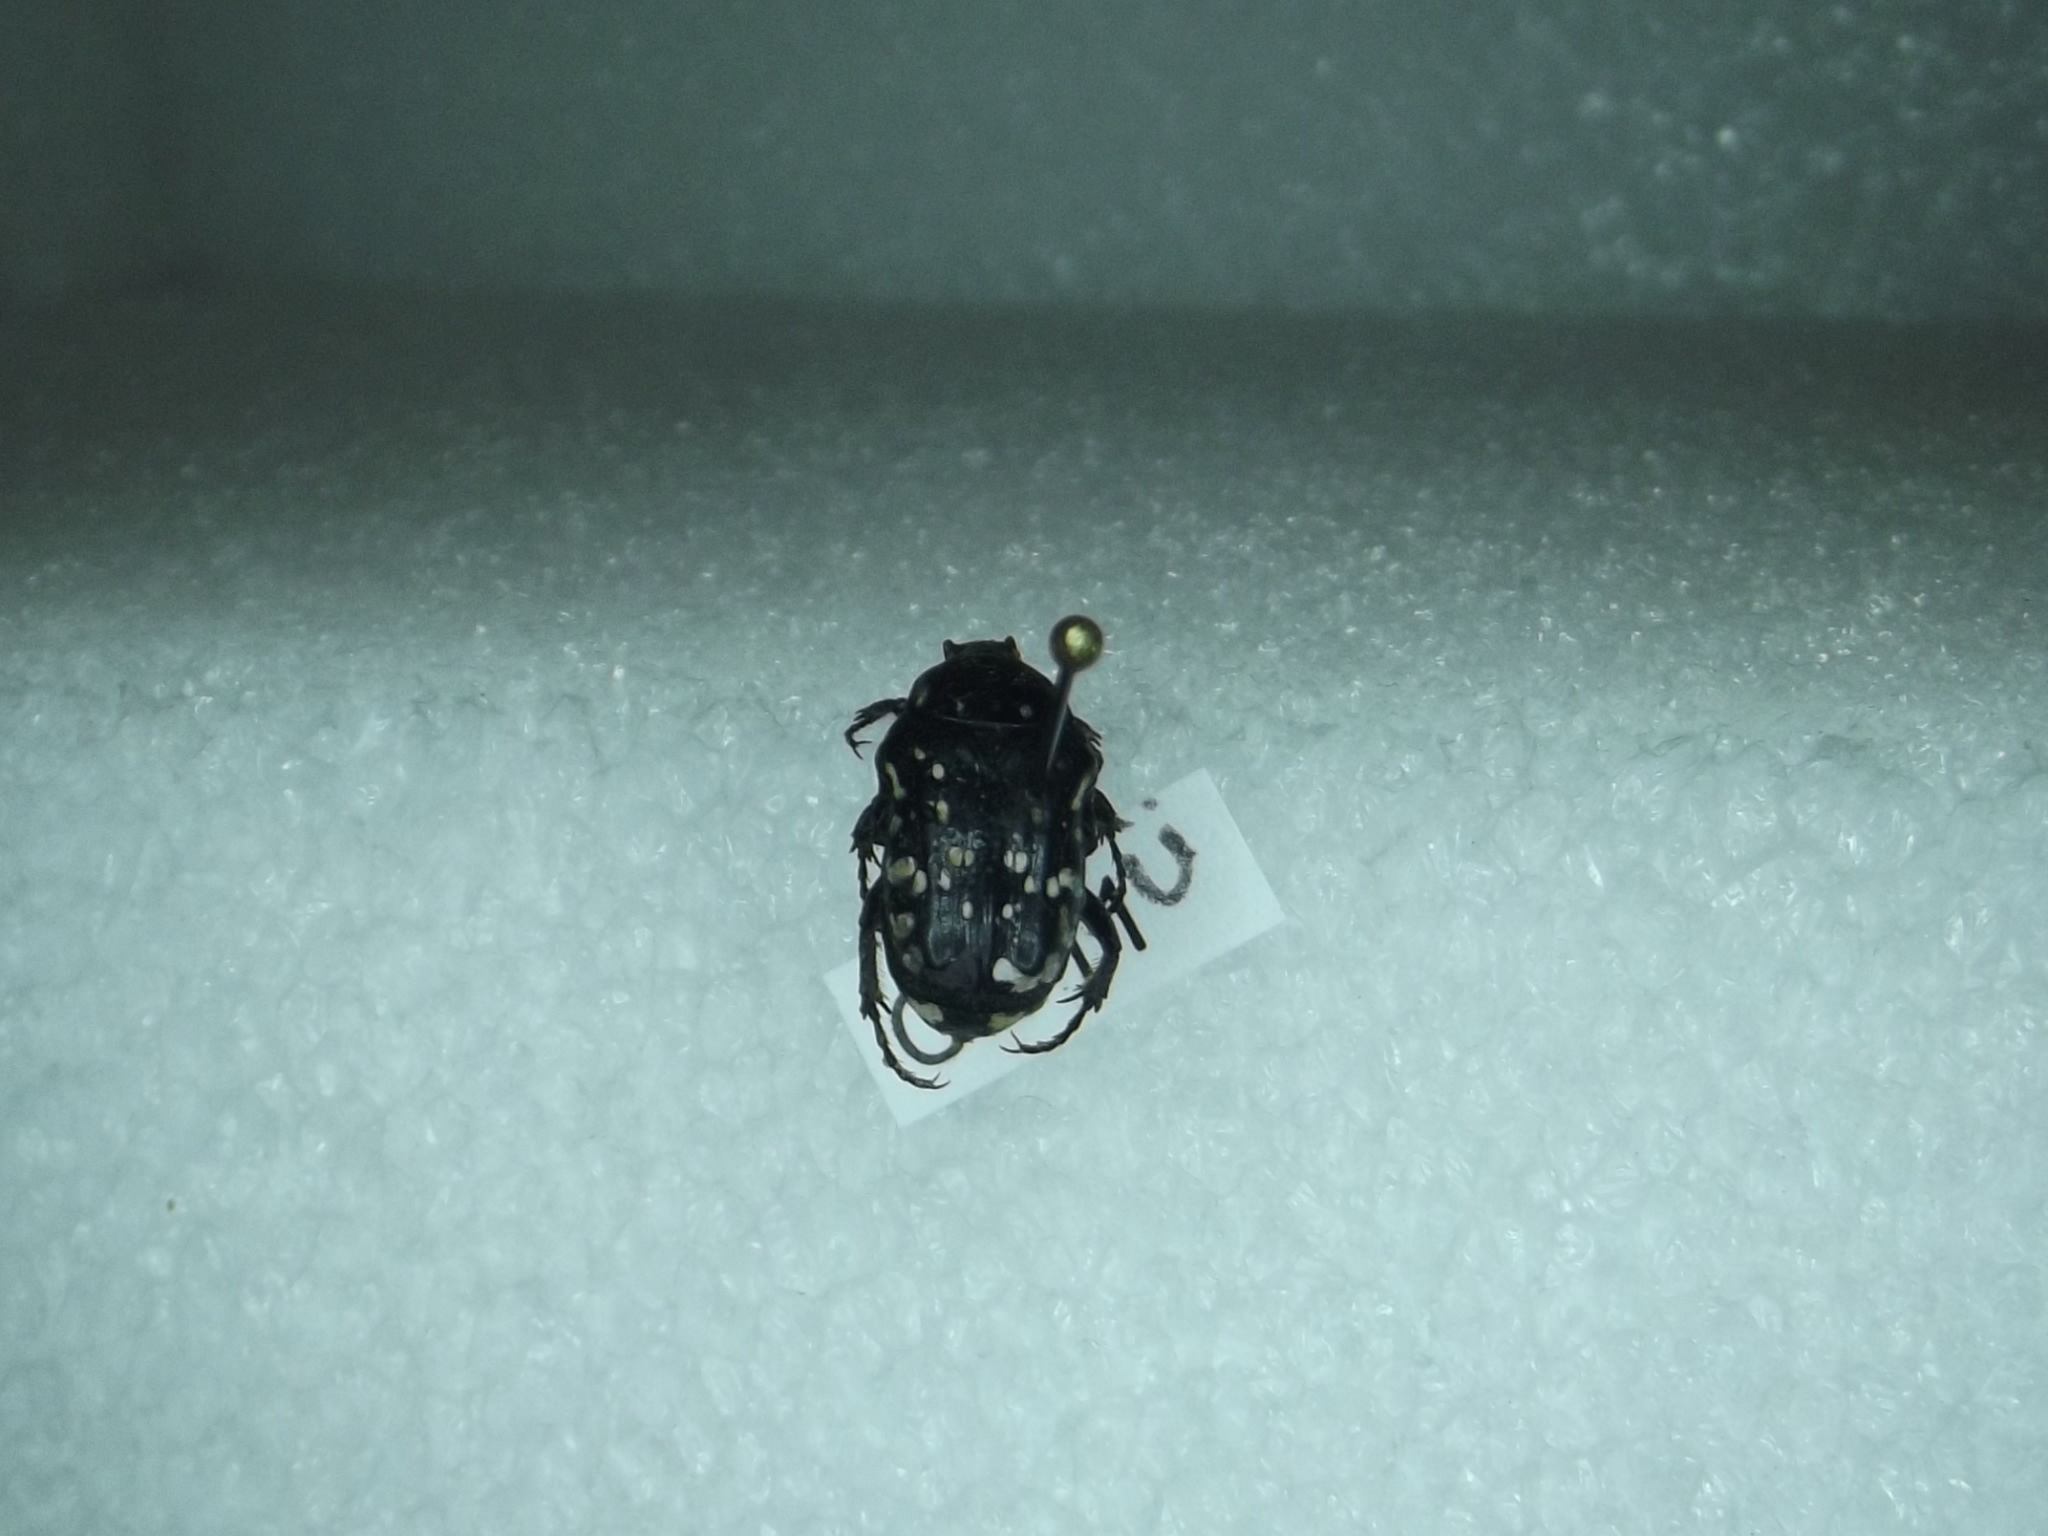Oxythyrea_albopicta: (829, 613, 1143, 1071)
